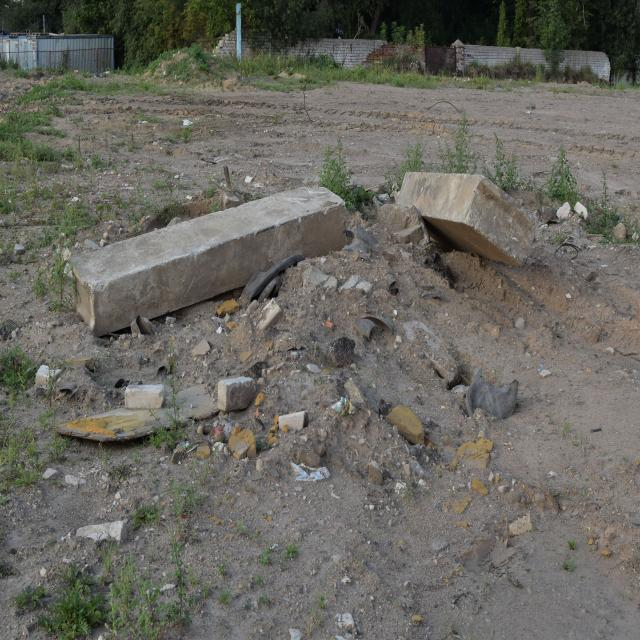entulho: (60, 186, 353, 344), (396, 174, 539, 280), (54, 380, 235, 448), (235, 244, 315, 306), (459, 359, 522, 426), (350, 303, 400, 347)
lixo domiciliar: (290, 461, 330, 481)
terra: (144, 43, 235, 84)
